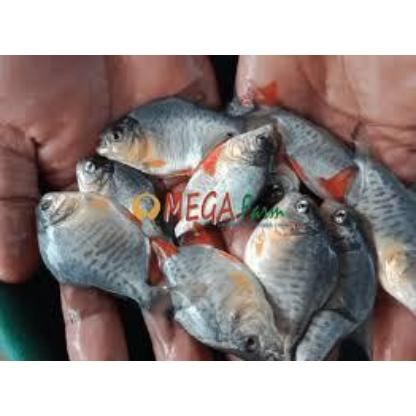ikan-pacu: (32, 188, 158, 302), (158, 246, 286, 356), (171, 124, 283, 228), (250, 193, 328, 341), (100, 100, 246, 168), (73, 152, 165, 224)
